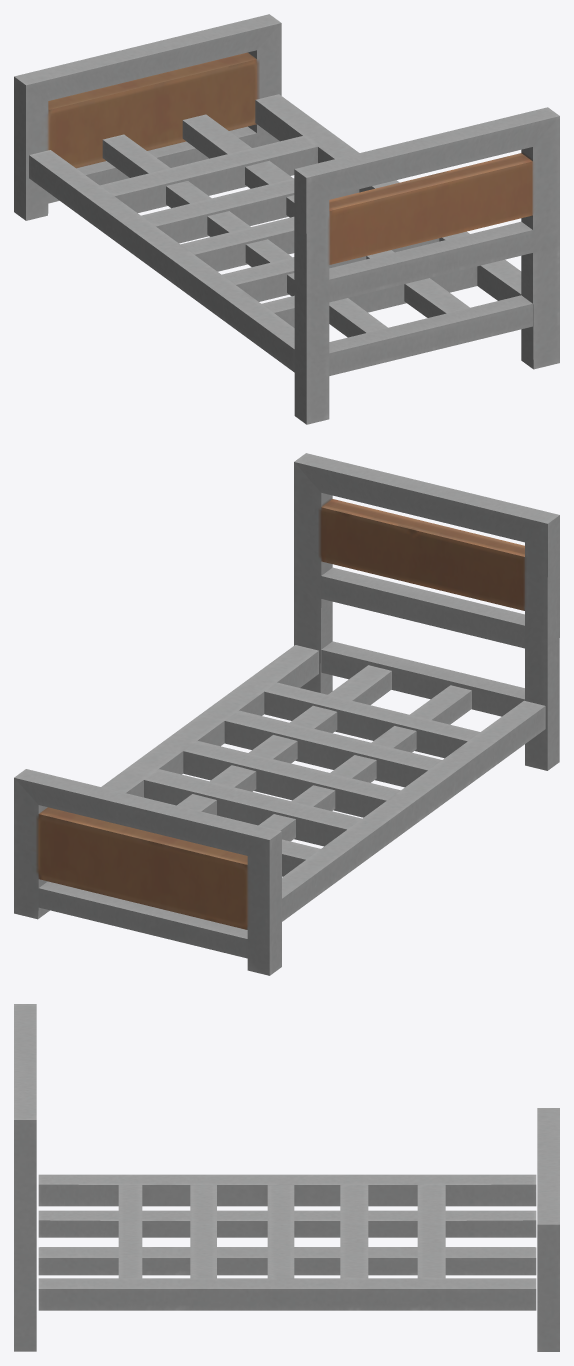
The model's file is Pfb_Indoors_Bedroom_Bed__2.fbx.
3 views of the same model, one above another, from view 1: azimuth 30°, elevation 25°; view 2: azimuth 150°, elevation 25°; view 3: azimuth 270°, elevation 25° (orthographic). The views are drawn at different scales.
Visible parts, largest first — view 1: Mat_Indoors_Bedroom_01; view 2: Mat_Indoors_Bedroom_01; view 3: Mat_Indoors_Bedroom_01.
Part boxes in pixels (x1,y1,x2,y2): Mat_Indoors_Bedroom_01: [14, 14, 559, 424]; Mat_Indoors_Bedroom_01: [14, 453, 559, 975]; Mat_Indoors_Bedroom_01: [14, 1004, 559, 1351].
Bounding box in the file's own units: 1.15 × 1.06 × 2.27.
1 material, 1 textured.
